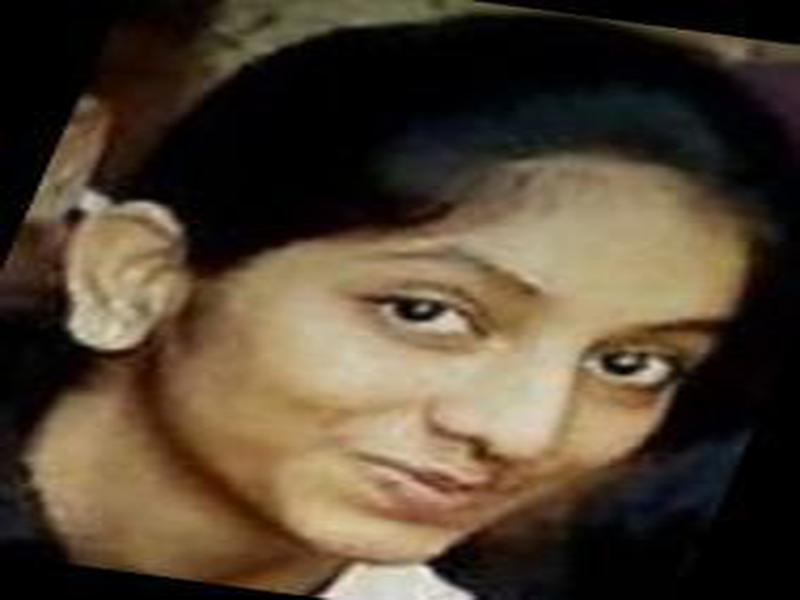without_mask: (159, 153, 742, 568)
